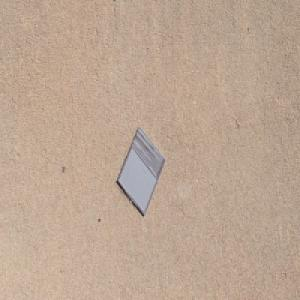PlasticPart: (116, 126, 166, 217)
